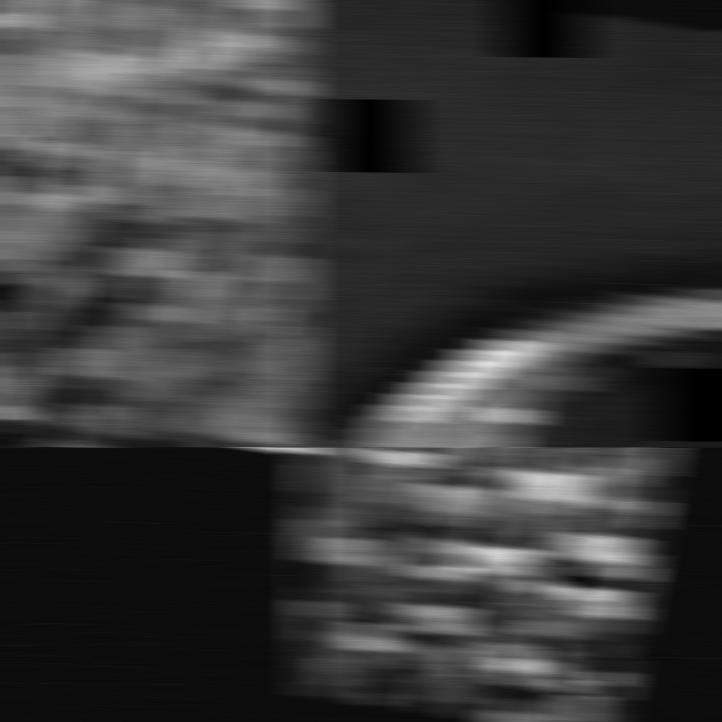AirbagV2: (294, 0, 722, 447), (0, 0, 312, 447), (294, 447, 722, 722)
